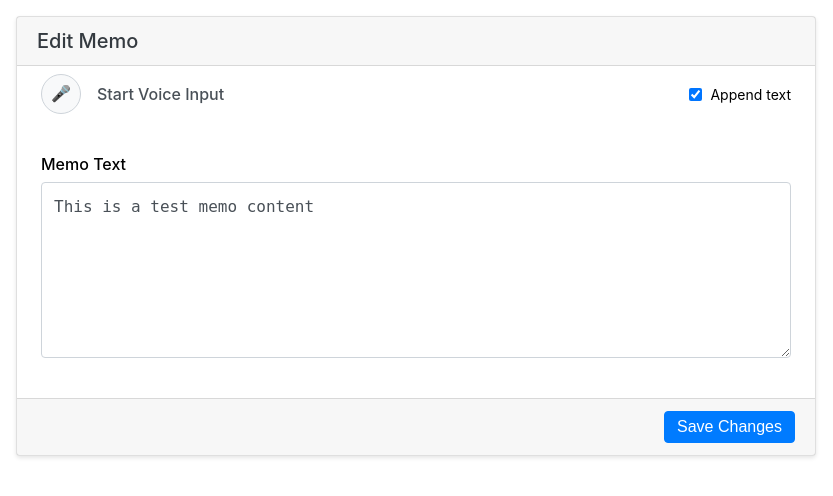
Test case: MemoForm Component › shows validation error when text is cleared
This screenshot has width=833, height=496.
Note: Clear the textarea
Clear the text box with test id "memo-text-input". click: point(416, 270)
box: [41,182,791,358]
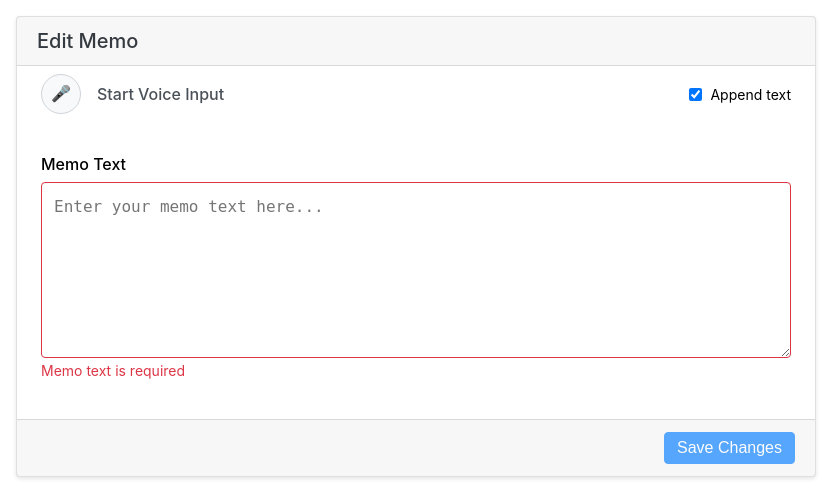
Expected: the text "Memo text is required" is shown, [41,362,185,379]
